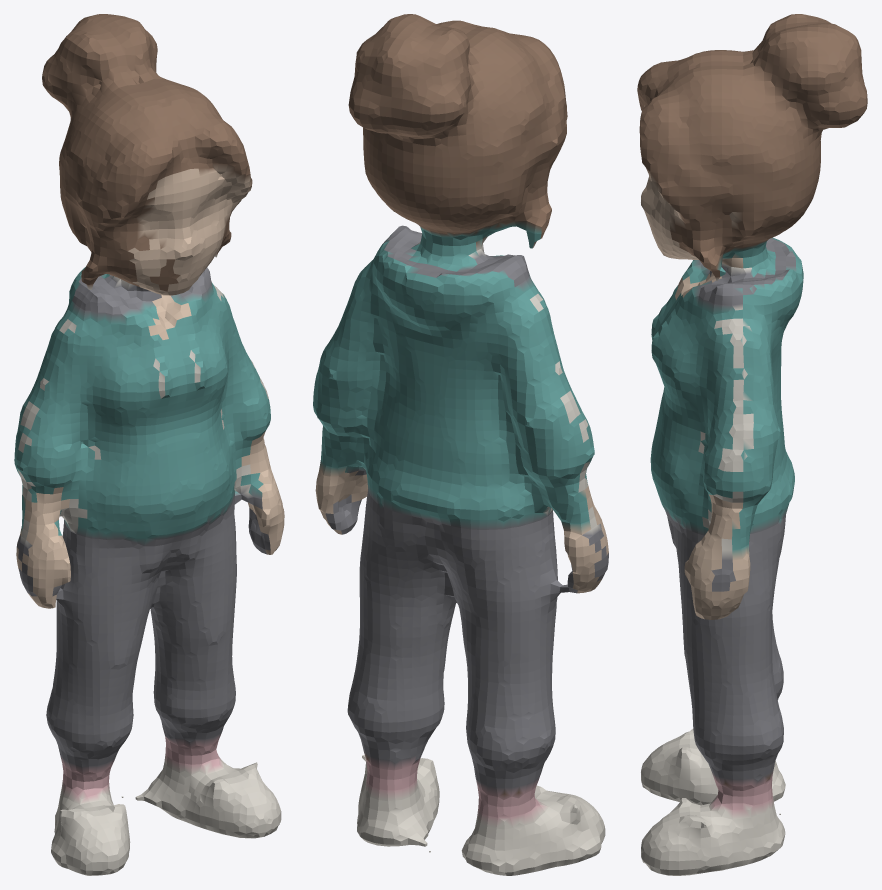
Rendered from v04_simple.glb.
3 views of the same model, side by side, from view 1: azimuth 30°, elevation 25°; view 2: azimuth 150°, elevation 25°; view 3: azimuth 270°, elevation 25° (orthographic). The views are drawn at different scales.
Visible parts, largest first — view 1: tmpjodqu76p.ply; view 2: tmpjodqu76p.ply; view 3: tmpjodqu76p.ply.
Boxes of the visible parts, box(x1,y1,x2,y2) form: tmpjodqu76p.ply: box(14, 14, 284, 875); tmpjodqu76p.ply: box(313, 14, 608, 875); tmpjodqu76p.ply: box(637, 14, 867, 875).
Bounding box in the file's own units: 0.6827 × 1.99 × 0.5155.
